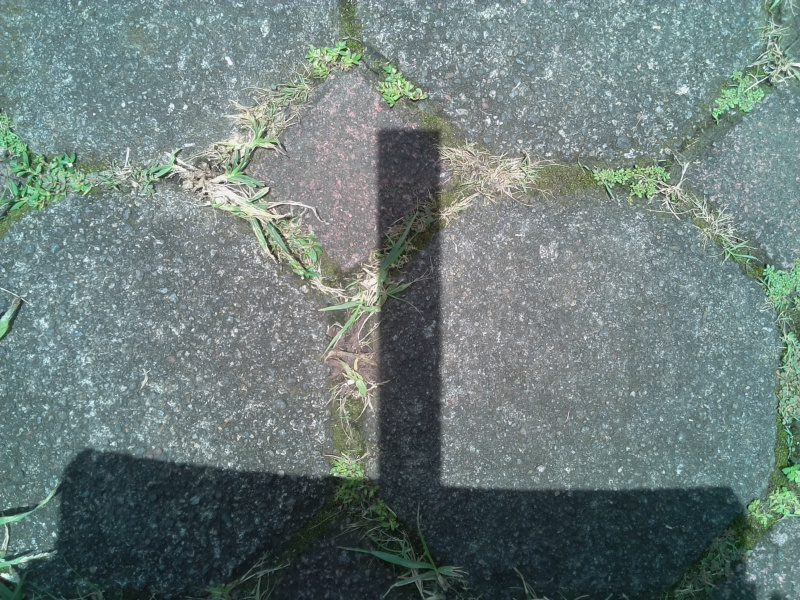Weed: (170, 132, 305, 267), (3, 108, 92, 223), (440, 139, 548, 209), (365, 538, 478, 600), (317, 449, 400, 532), (346, 233, 409, 329), (591, 153, 691, 209), (672, 523, 744, 597), (373, 57, 429, 120), (330, 360, 391, 416), (773, 328, 800, 444), (705, 72, 765, 122), (747, 482, 800, 531), (763, 258, 800, 320), (301, 43, 361, 77)
